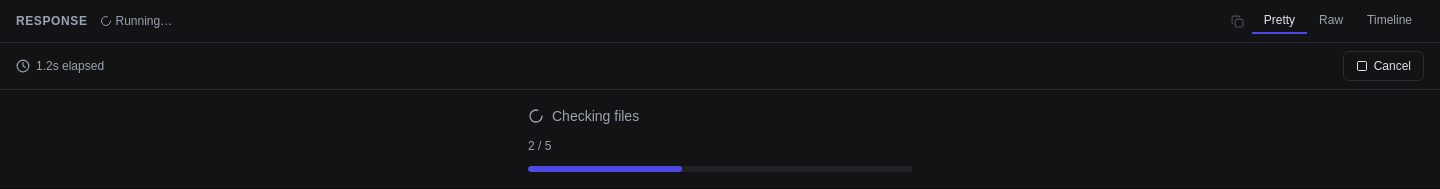
Test: shows advancing elapsed time, progress and Cancel; timeline is available during the Call
Later steps or results of the test are not shown.
Expected: the text "Checking files" is shown, [552,106,639,126]
Expected: the text "2 / 5" is shown, [528,139,551,153]
Click the button with aria-label "Cancel Call": (1383, 66) [1343,51,1424,81]
Press the mouse on the tab "Timeline": (1390, 21) [1355,8,1424,34]
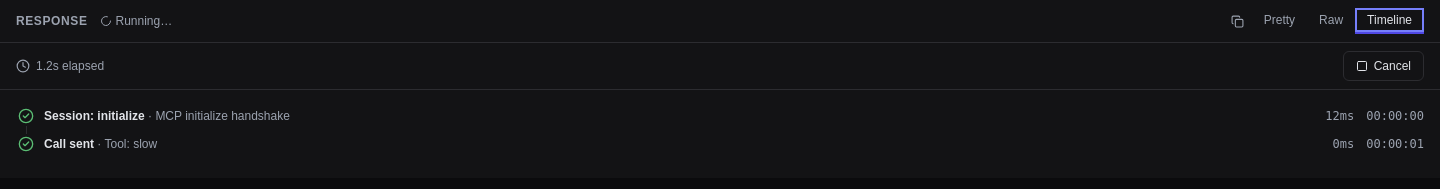
Expected: the button with aria-label "Cancel Call" is shown, [1343,51,1424,81]
Now the text "Session: initialize" is shown, box [44,109,145,123]
Now the text "12ms" is shown, box [1325,106,1354,126]
